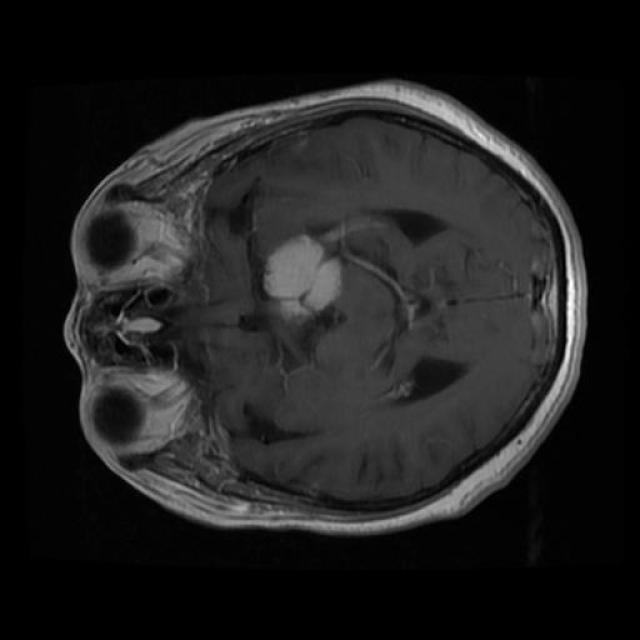Meningioma: (263, 234, 341, 321)
